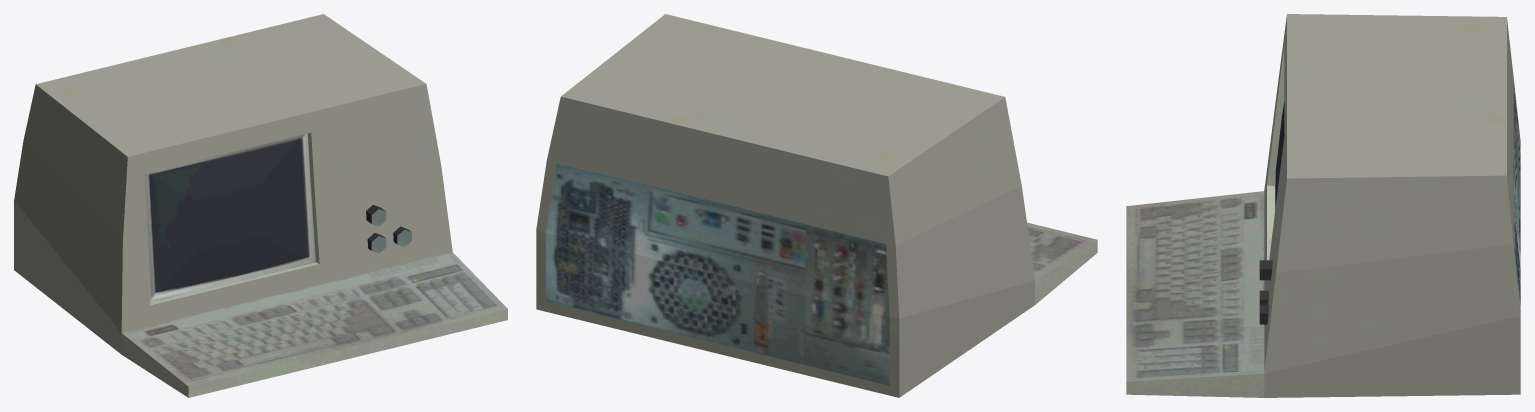
The model's file is desktop_brick.obj.
3 renders of one model, left to right at view 1: azimuth 30°, elevation 25°; view 2: azimuth 150°, elevation 25°; view 3: azimuth 270°, elevation 25°, orthographic. The views are drawn at different scales.
Parts seen in each view (by area): view 1: desktop_brick; view 2: desktop_brick; view 3: desktop_brick.
Boxes of the visible parts, x1=… form: desktop_brick: x1=14, y1=14, x2=507, y2=397; desktop_brick: x1=536, y1=14, x2=1097, y2=397; desktop_brick: x1=1126, y1=14, x2=1520, y2=397.
Bounding box in the file's own units: 0.8889 × 0.4785 × 0.8118.
